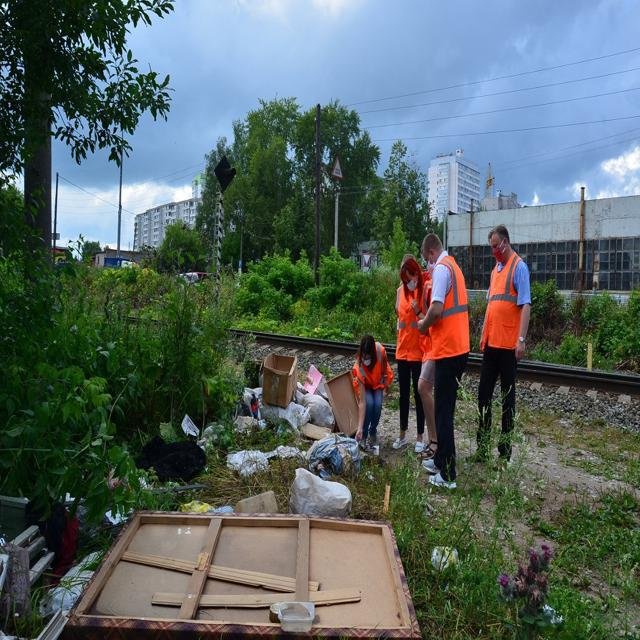lixeira: (100, 515, 405, 638), (1, 492, 102, 615), (241, 355, 328, 436), (140, 416, 205, 480), (291, 468, 353, 518), (304, 436, 372, 476), (228, 446, 302, 478), (182, 492, 278, 514), (329, 375, 359, 438)
